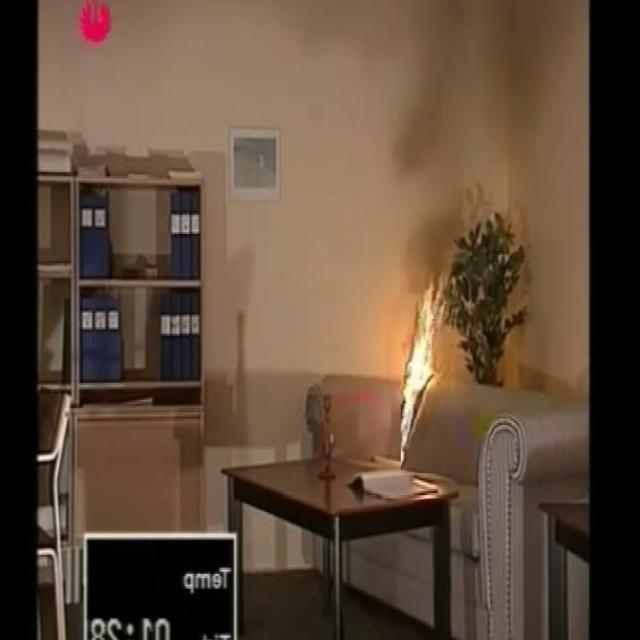fire: (390, 0, 476, 269)
smoke: (402, 268, 448, 473)
